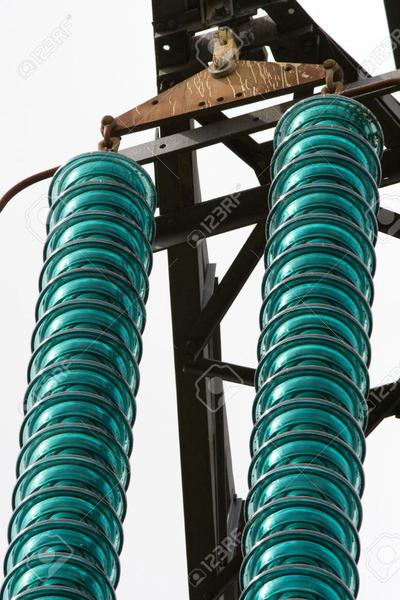isolator: (1, 95, 383, 600)
